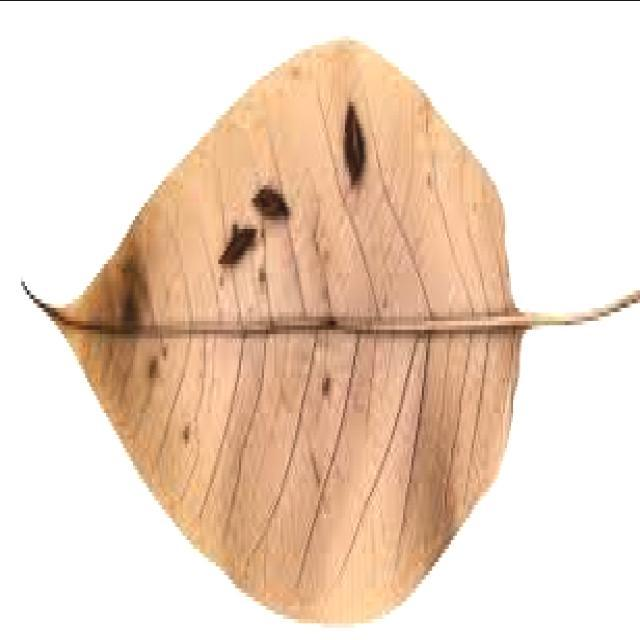leaf: (19, 35, 637, 624)
